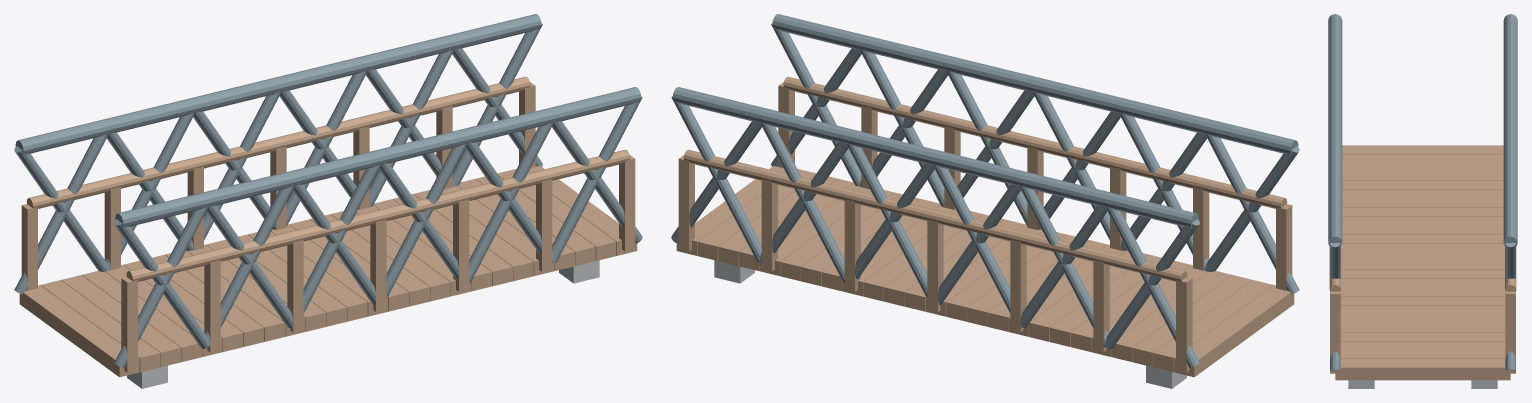
The model's file is truss_bridge.glb.
The picture shows the model from 3 angles, left to right: view 1: azimuth 30°, elevation 25°; view 2: azimuth 150°, elevation 25°; view 3: azimuth 270°, elevation 25°; orthographic projection. The views are drawn at different scales.
Parts seen in each view (by area): view 1: truss_bridge_091, truss_bridge_104, truss_bridge_000, truss_bridge_003, truss_bridge_006, truss_bridge_102, truss_bridge_100, truss_bridge_009, truss_bridge_098, truss_bridge_105, truss_bridge_092, truss_bridge_096 (+55 smaller); view 2: truss_bridge_104, truss_bridge_091, truss_bridge_000, truss_bridge_003, truss_bridge_006, truss_bridge_115, truss_bridge_113, truss_bridge_009, truss_bridge_111, truss_bridge_092, truss_bridge_105, truss_bridge_109 (+55 smaller); view 3: truss_bridge_082, truss_bridge_091, truss_bridge_104, truss_bridge_059, truss_bridge_065, truss_bridge_068, truss_bridge_073, truss_bridge_062, truss_bridge_054, truss_bridge_000, truss_bridge_020, truss_bridge_023 (+23 smaller).
Boxes of the visible parts, x1,y1,x2,y2 form: truss_bridge_091: (115,87,641,227); truss_bridge_104: (15,14,541,154); truss_bridge_000: (19,285,139,377); truss_bridge_003: (40,280,160,372); truss_bridge_006: (61,275,181,366); truss_bridge_102: (552,96,642,262); truss_bridge_100: (469,123,553,283); truss_bridge_009: (82,271,201,361); truss_bridge_098: (386,144,466,298); truss_bridge_105: (14,134,108,294); truss_bridge_092: (114,207,207,368); truss_bridge_096: (303,165,380,313); truss_bridge_104: (672,87,1198,227); truss_bridge_091: (772,14,1298,154); truss_bridge_000: (1174,285,1294,377); truss_bridge_003: (1153,280,1273,372); truss_bridge_006: (1132,275,1252,366); truss_bridge_115: (671,96,761,262); truss_bridge_113: (760,123,844,283); truss_bridge_009: (1112,271,1231,361); truss_bridge_111: (847,144,927,298); truss_bridge_092: (1205,134,1299,294); truss_bridge_105: (1106,207,1199,368); truss_bridge_109: (933,165,1010,313); truss_bridge_082: (1335,359,1510,380); truss_bridge_091: (1328,14,1342,246); truss_bridge_104: (1503,14,1517,246); truss_bridge_059: (1340,296,1505,305); truss_bridge_065: (1340,314,1505,323); truss_bridge_068: (1340,323,1505,332); truss_bridge_073: (1340,332,1505,341); truss_bridge_062: (1340,305,1505,314); truss_bridge_054: (1340,287,1505,296); truss_bridge_000: (1342,145,1503,154); truss_bridge_020: (1342,198,1503,207); truss_bridge_023: (1342,207,1503,216).
Bounding box in the file's own units: 6.1 × 2.08 × 2.16.
